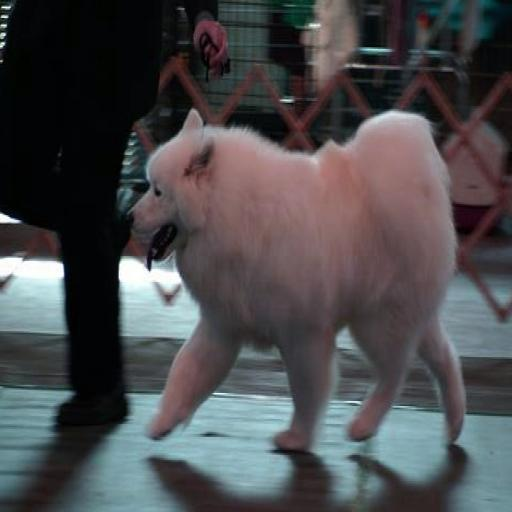dog_face: (126, 115, 216, 278)
